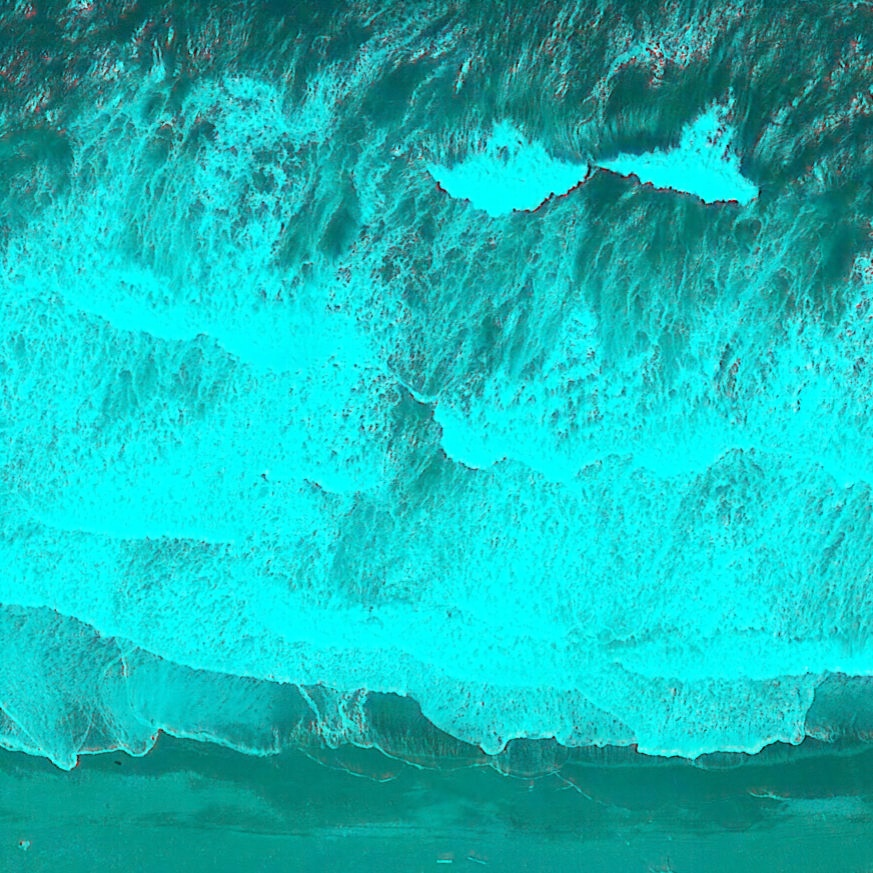rip_current: (323, 181, 515, 607)
